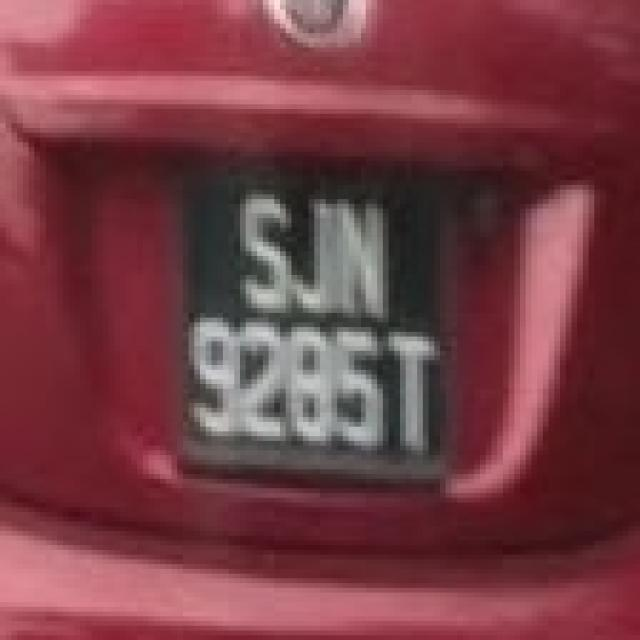2: (243, 322, 284, 446)
5: (335, 328, 389, 452)
8: (286, 322, 331, 452)
9: (187, 319, 241, 441)
J: (295, 196, 337, 318)
N: (337, 199, 392, 321)
S: (241, 195, 295, 319)
T: (385, 329, 441, 460)
